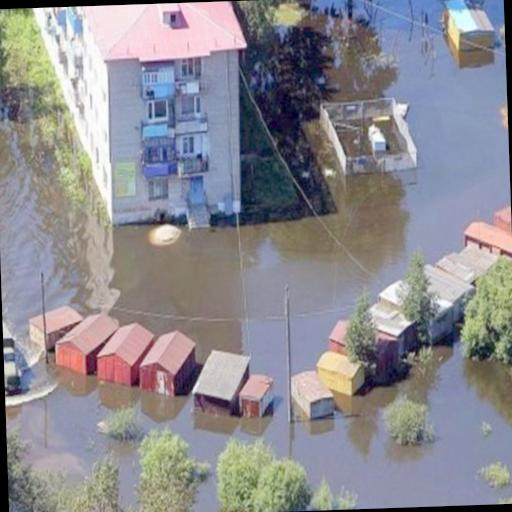flood: (0, 0, 512, 509), (5, 362, 57, 408), (472, 0, 504, 26), (313, 0, 345, 9)
house: (85, 0, 250, 206), (332, 282, 428, 396), (192, 344, 257, 418), (138, 326, 199, 394), (101, 316, 148, 390), (56, 310, 108, 374), (288, 367, 336, 430), (444, 0, 496, 58), (464, 214, 512, 268), (230, 368, 276, 423), (30, 301, 76, 343)
